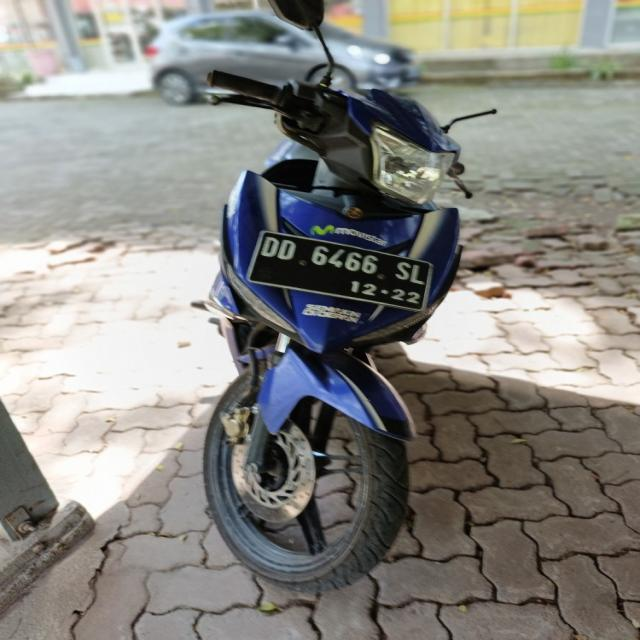plates: (248, 232, 440, 315)
